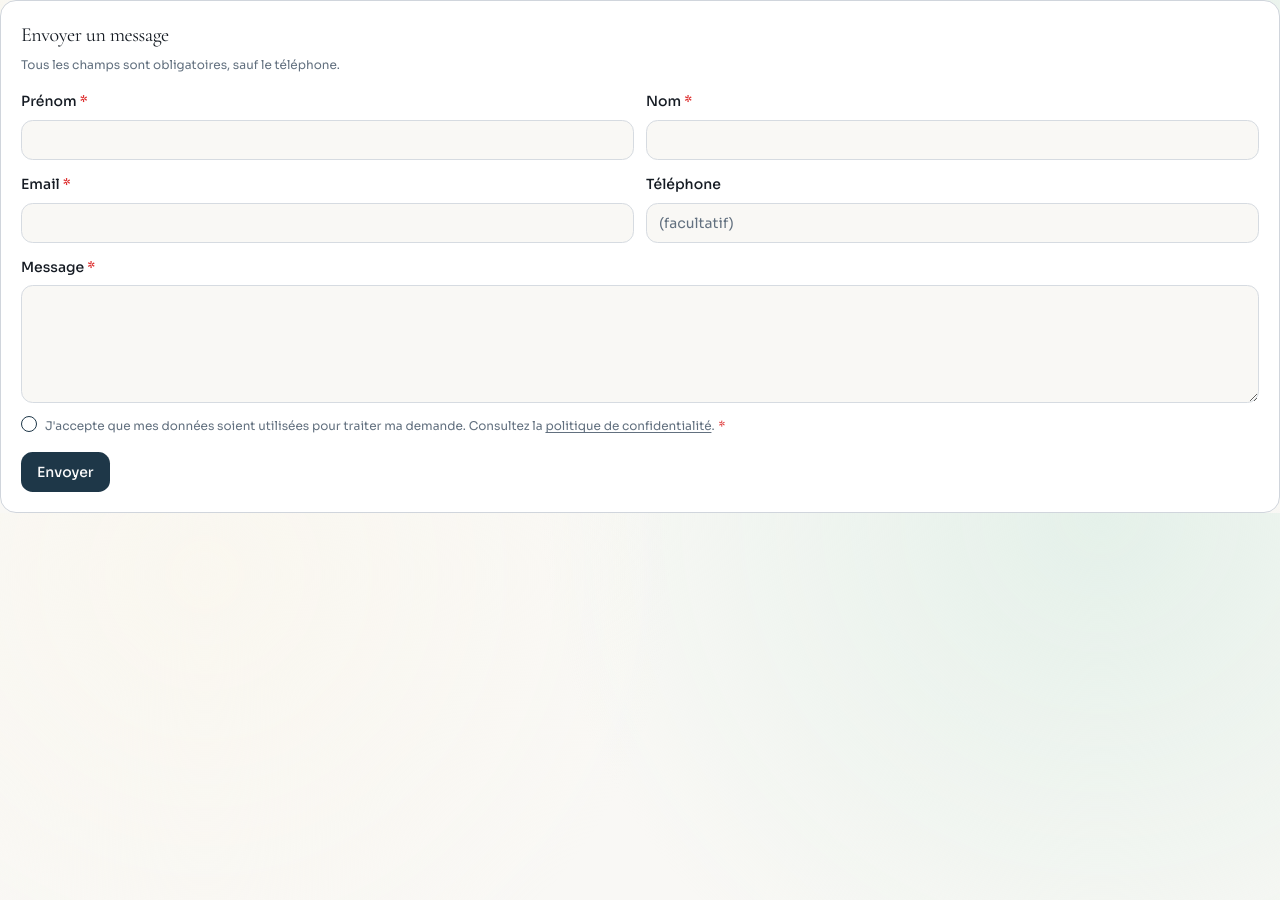
Test: LeadForm validation › waits until email blur and clears the error as soon as the email is corrected
The image size is (1280, 900).
Type "invalid-email" into the field labelled "Email *".
click(328, 223); type("invalid-email")  # box [21,203,634,243]
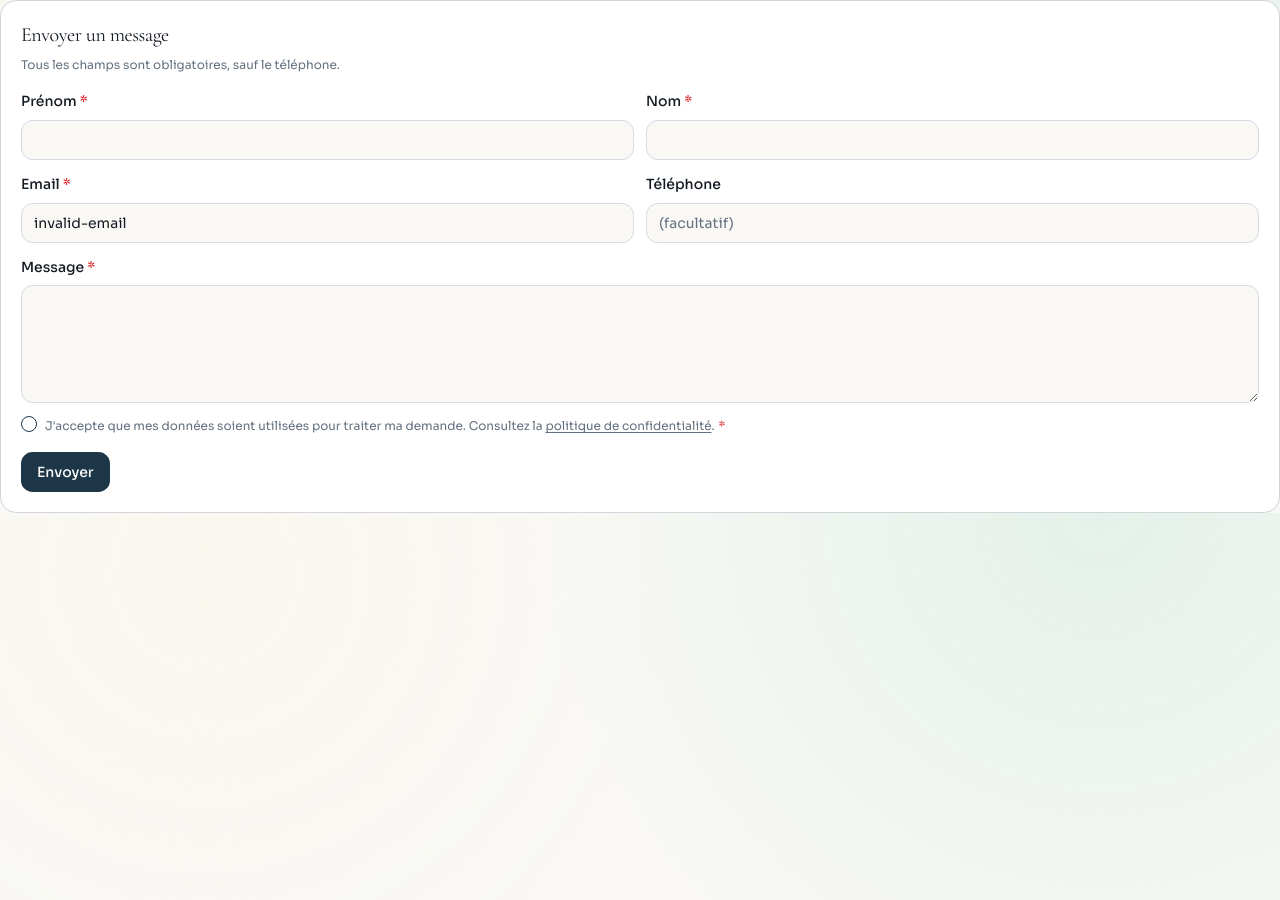
Expected: the text "Vérifiez l’adresse email" is not shown
Leave the field labelled "Email *", box [21,203,634,243]
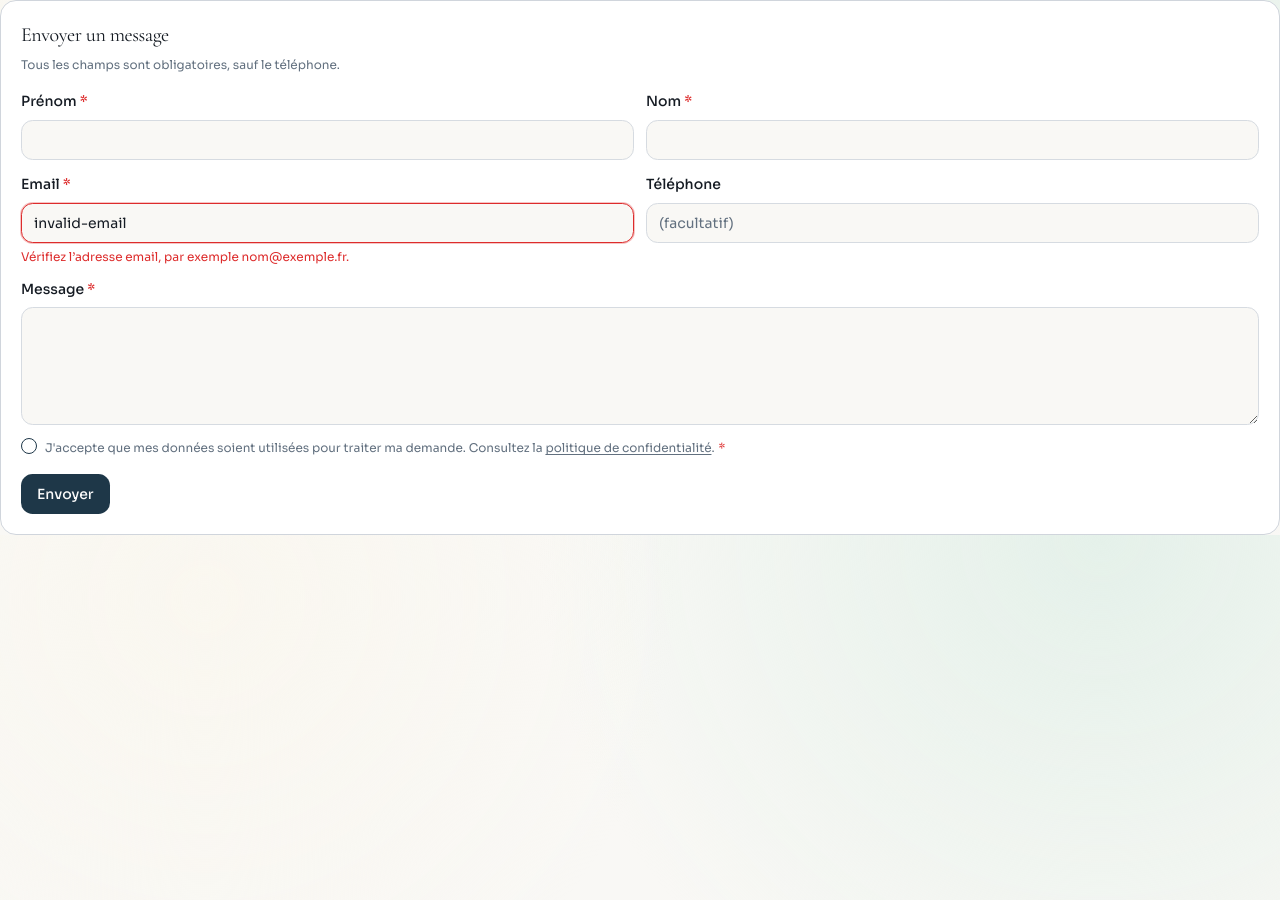
Replace the text in the field labelled "Email *" with "camille@example.fr" at (328, 223), box [21,203,634,243]
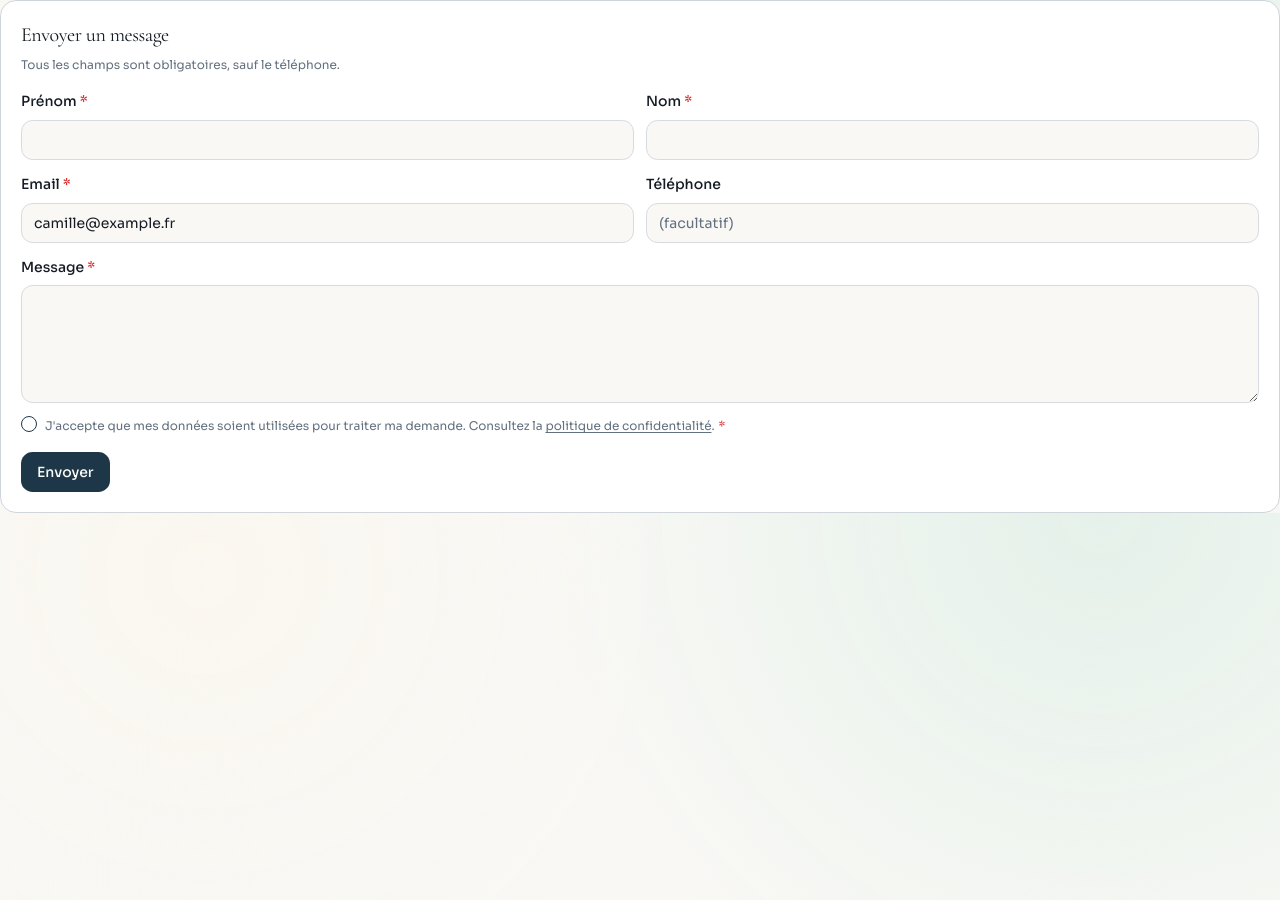
Result: the text "Vérifiez l’adresse email" is gone
